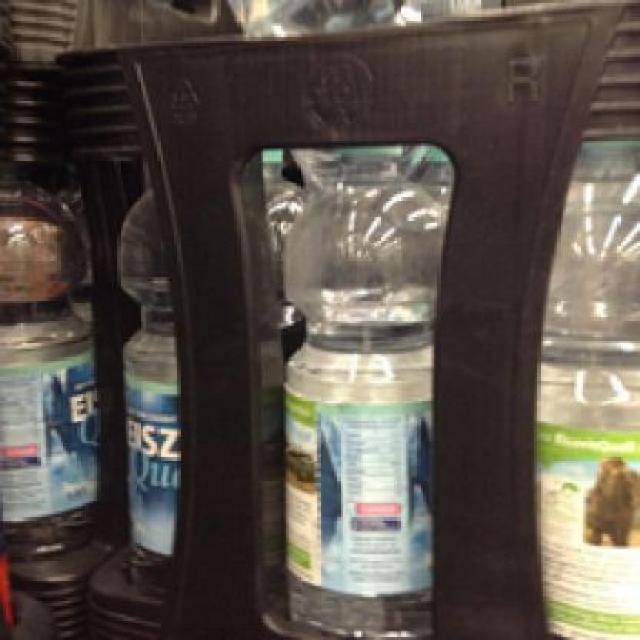Water: (283, 148, 426, 638)
